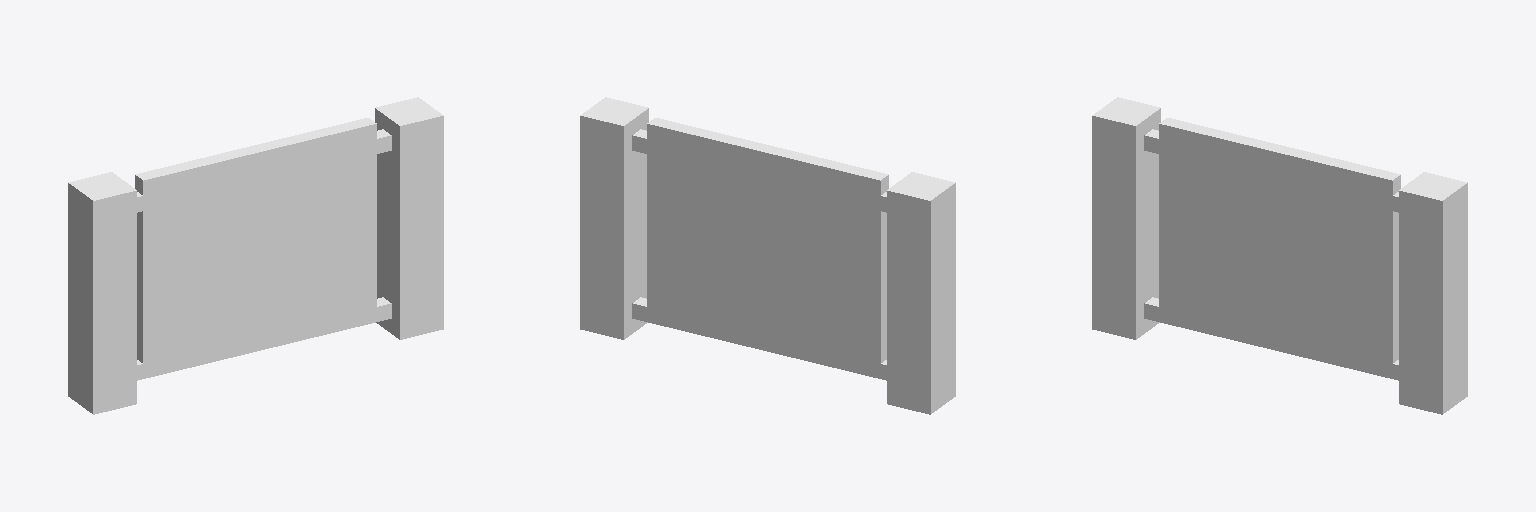
File: Barreira.obj
3 renders of one model, left to right at view 1: azimuth 30°, elevation 25°; view 2: azimuth 150°, elevation 25°; view 3: azimuth 330°, elevation 25°, orthographic.
Visible parts, largest first — view 1: object 1; view 2: object 1; view 3: object 1.
Part boxes in pixels (x1,y1,x2,y2): object 1: (68, 97, 443, 414); object 1: (580, 97, 955, 414); object 1: (1092, 97, 1467, 414).
Size of the model in its own units: 2.4 by 1.4 by 0.3.